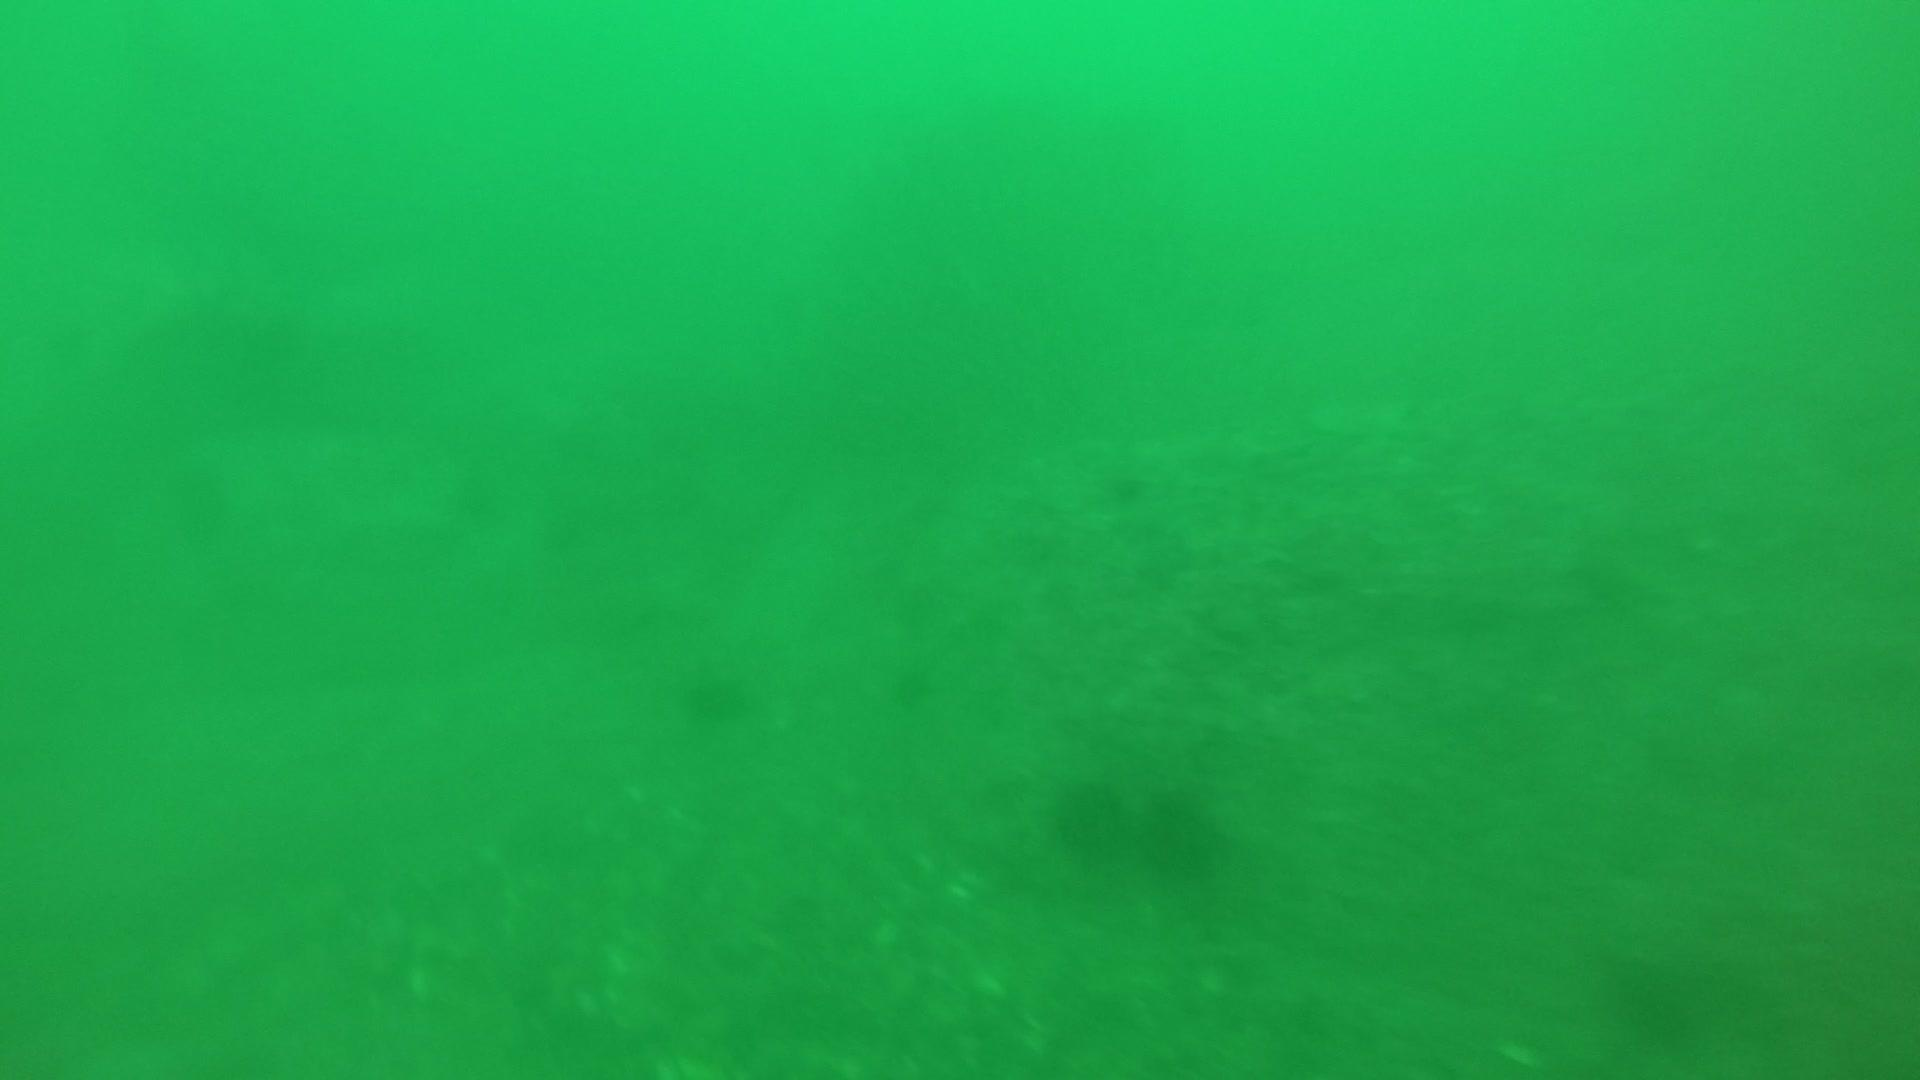echinus: (1135, 783, 1230, 884), (1044, 770, 1130, 860), (676, 657, 758, 727)
